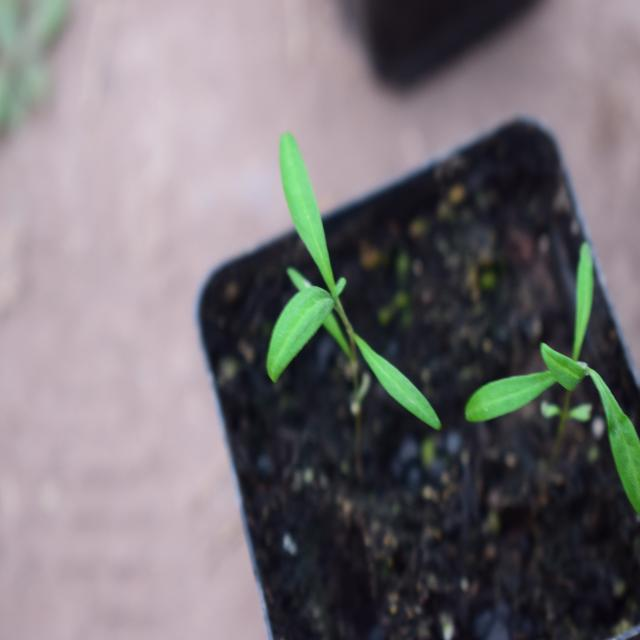white_smart_weed: (253, 141, 424, 439)
